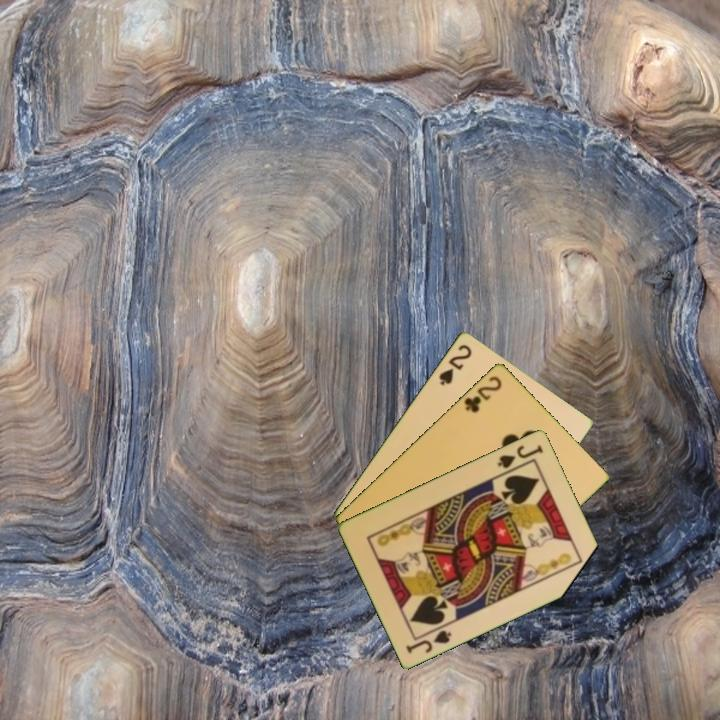2c: (460, 372, 504, 415)
2s: (435, 341, 475, 388)
Js: (402, 626, 455, 656), (494, 441, 546, 471)
